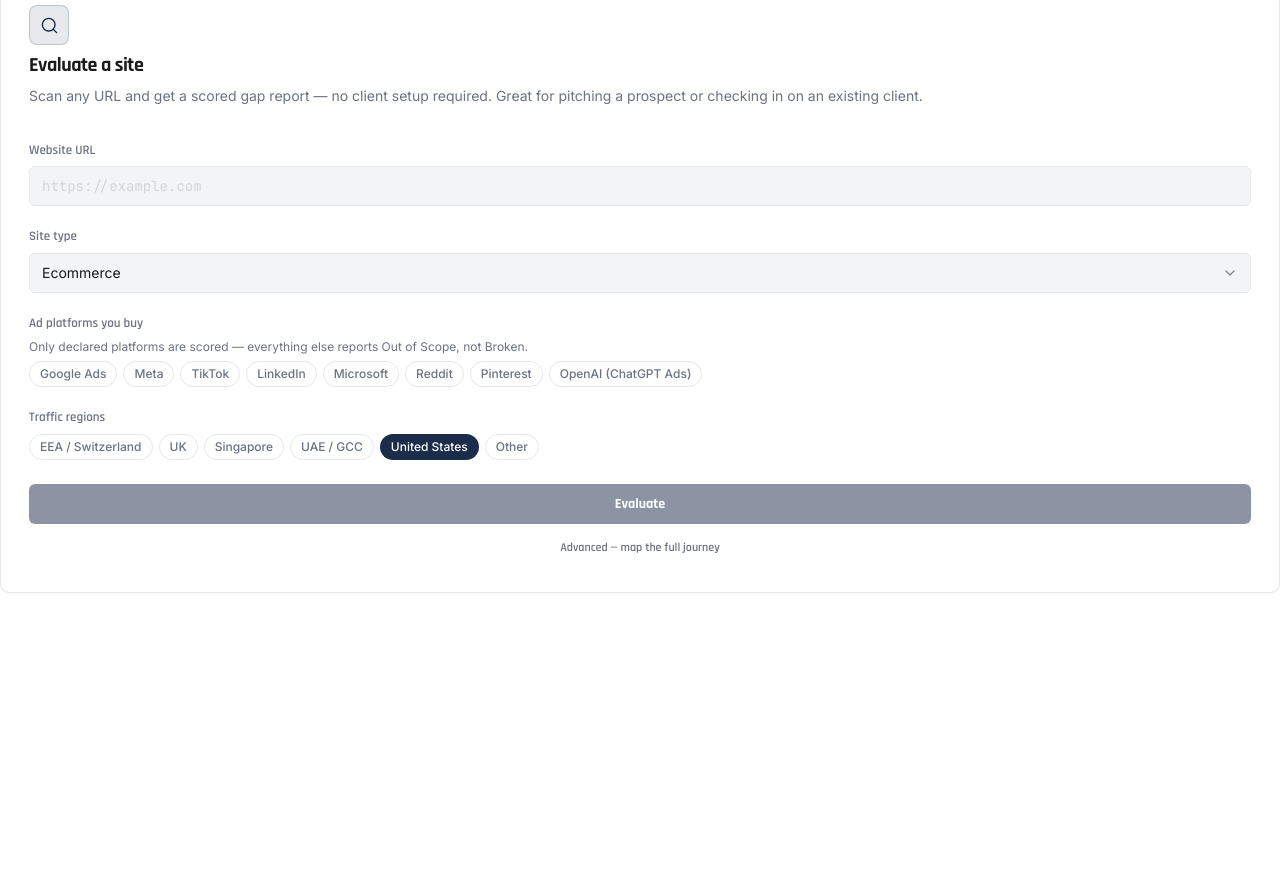
Test case: EvaluateSiteCard › switching to Advanced renders RunAuditForm's expanded Scan Inputs sections
Click the button "Advanced — map the full journey" at {"x": 640, "y": 548}, box [29,532,1251,564]
(page scrolled)
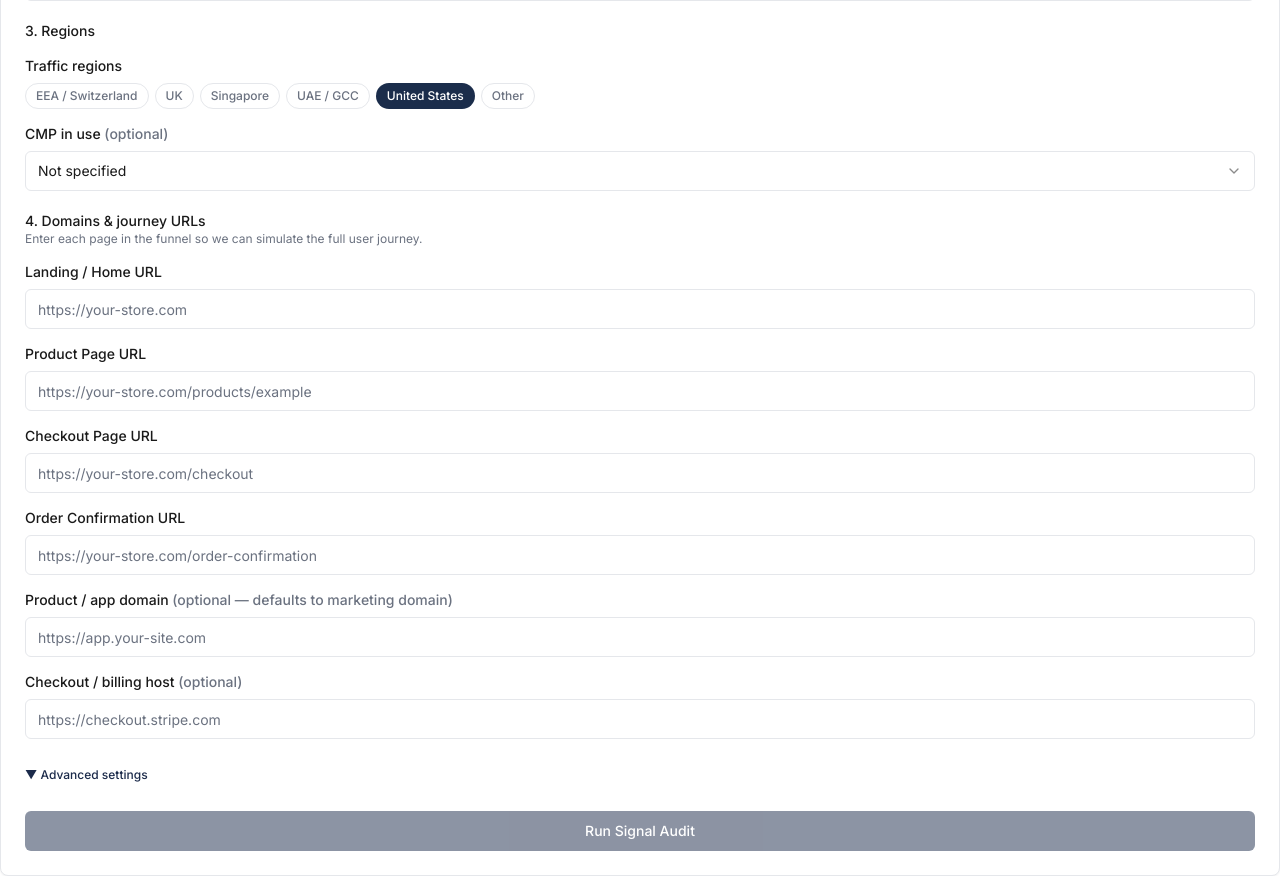
Now the text "3. Regions" is shown, box [25,22,95,39]
Now the text "4. Domains & journey URLs" is shown, box [25,212,206,229]
Now the text "CMP in use (optional)" is shown, box [25,125,168,142]
